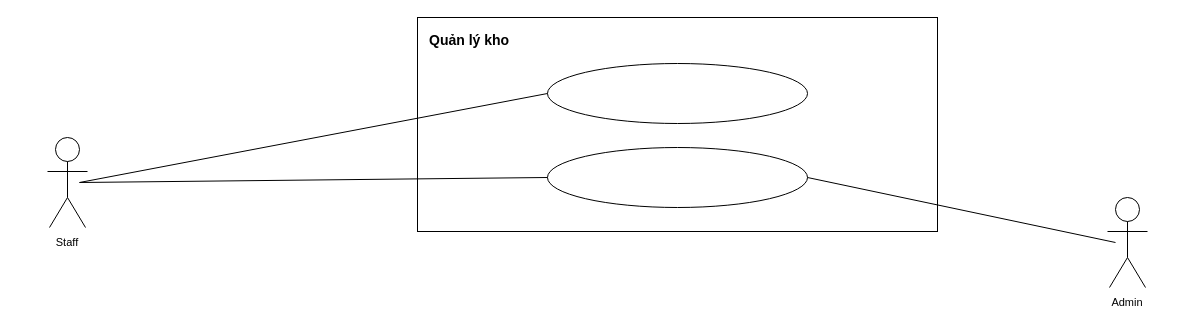
Some shapes in this 1194 by 331 pixel diagram are drawn without their labels. The shapes that lost their labels are listed below. From the top down, each one's centre as x and y in pixels, then its label:
At point 677,93: "UC-08 Kiểm đếm linh kiện nhập kho".
At point 677,177: "UC-09 Cập nhật trạng thái hộp game".
